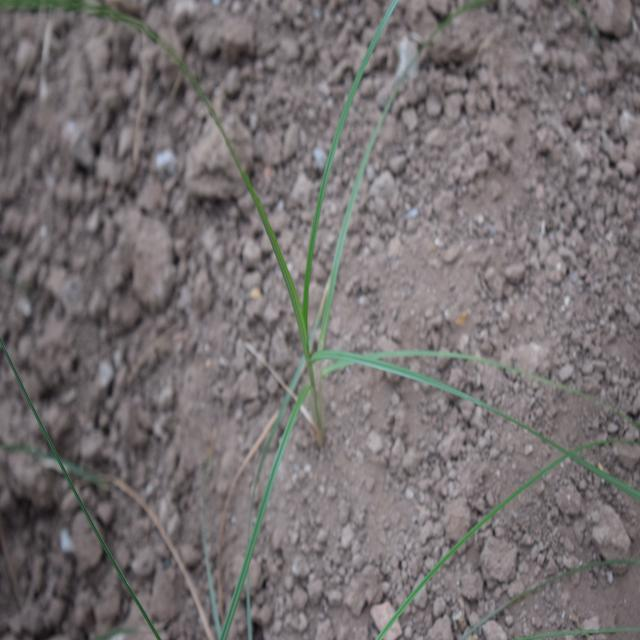sedge: (146, 28, 513, 550)
